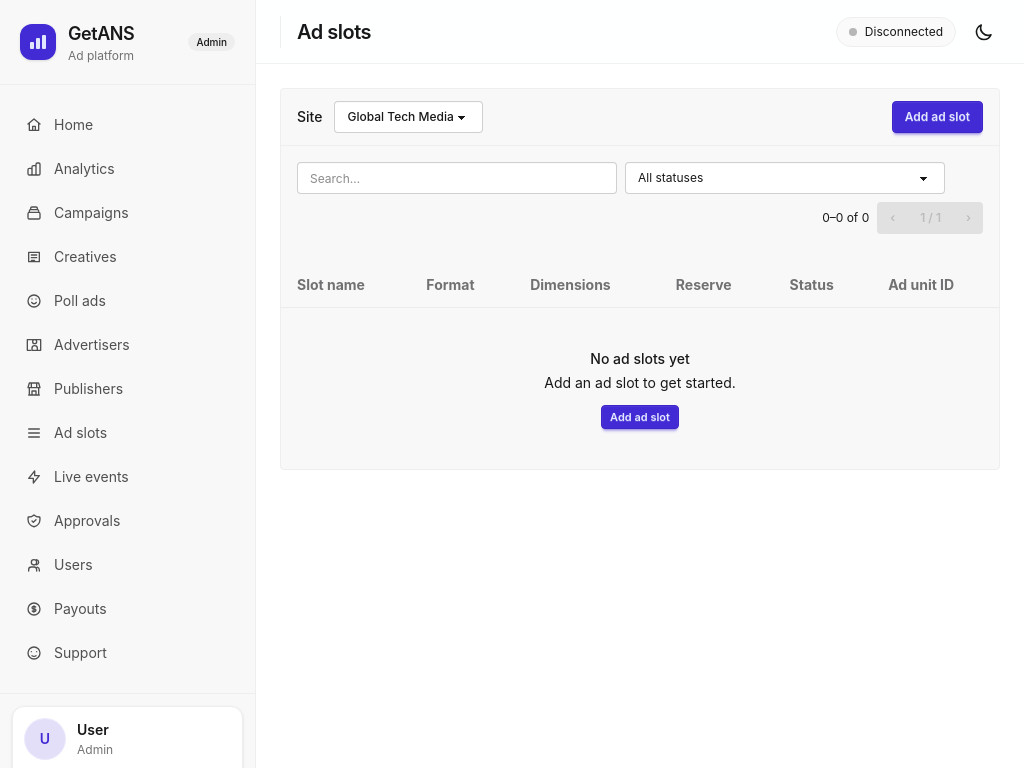
create ad slot modal › shows the API error
Select "Global Tech Media" in the dropdown named "Select site for ad slots" at (409, 117), box [334,101,483,133]
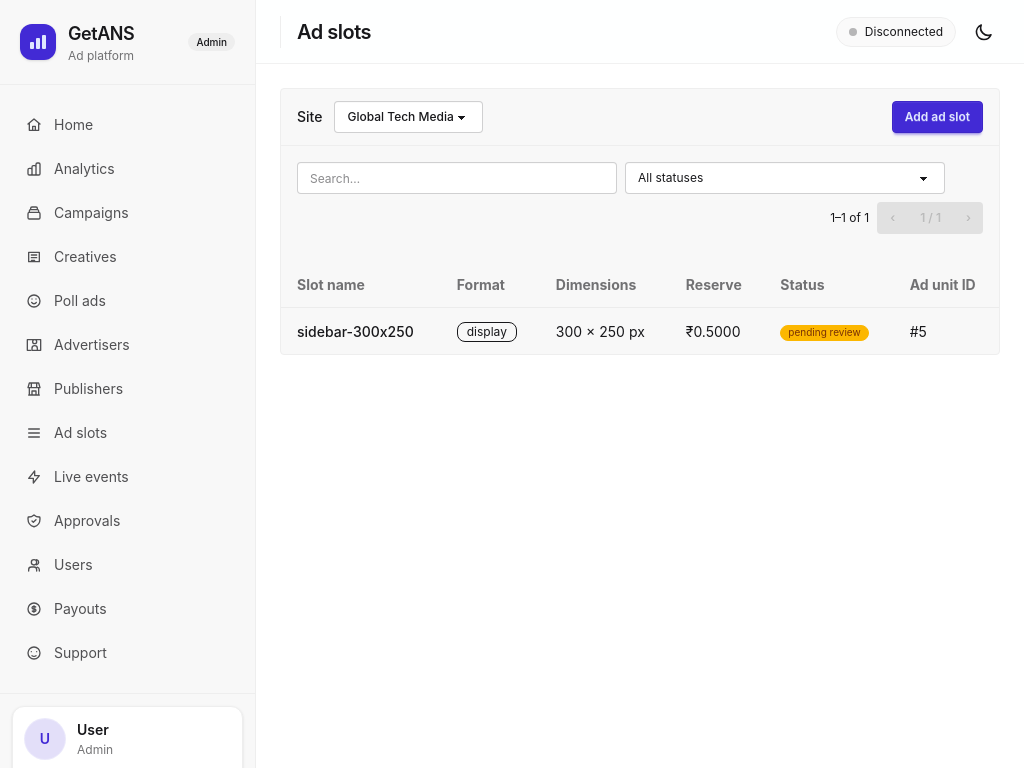
Click the button "Add ad slot" at (937, 117), box [892,101,983,133]
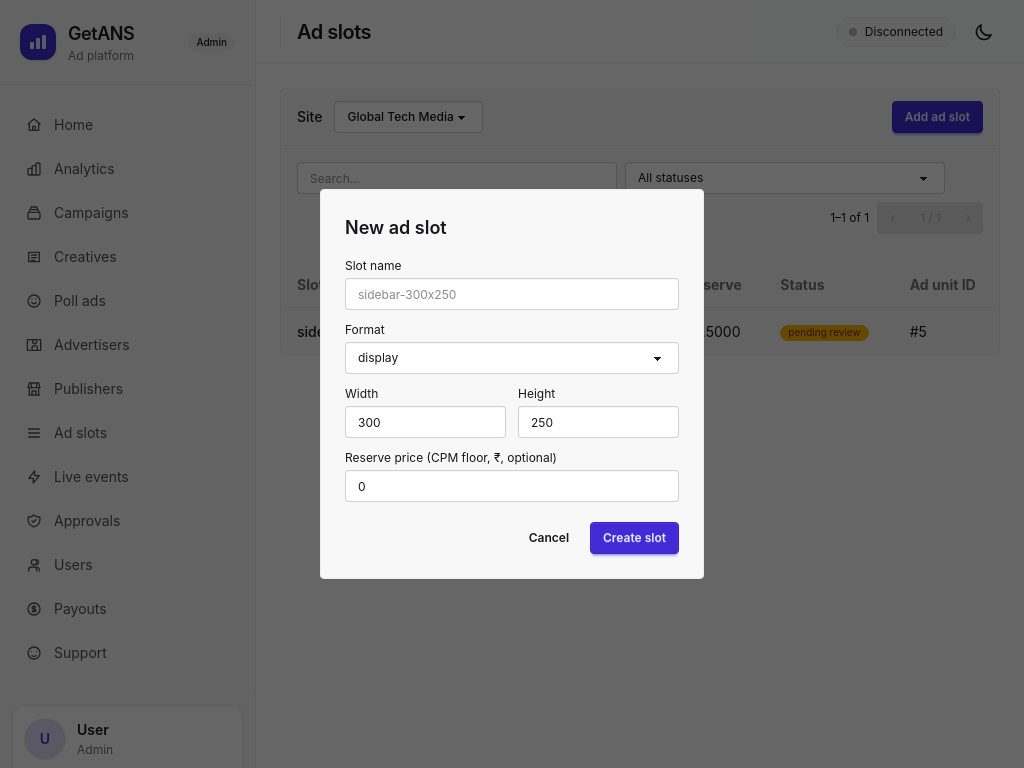
Type "x" into the field labelled "Slot name" at (512, 294), box [345,278,679,310]
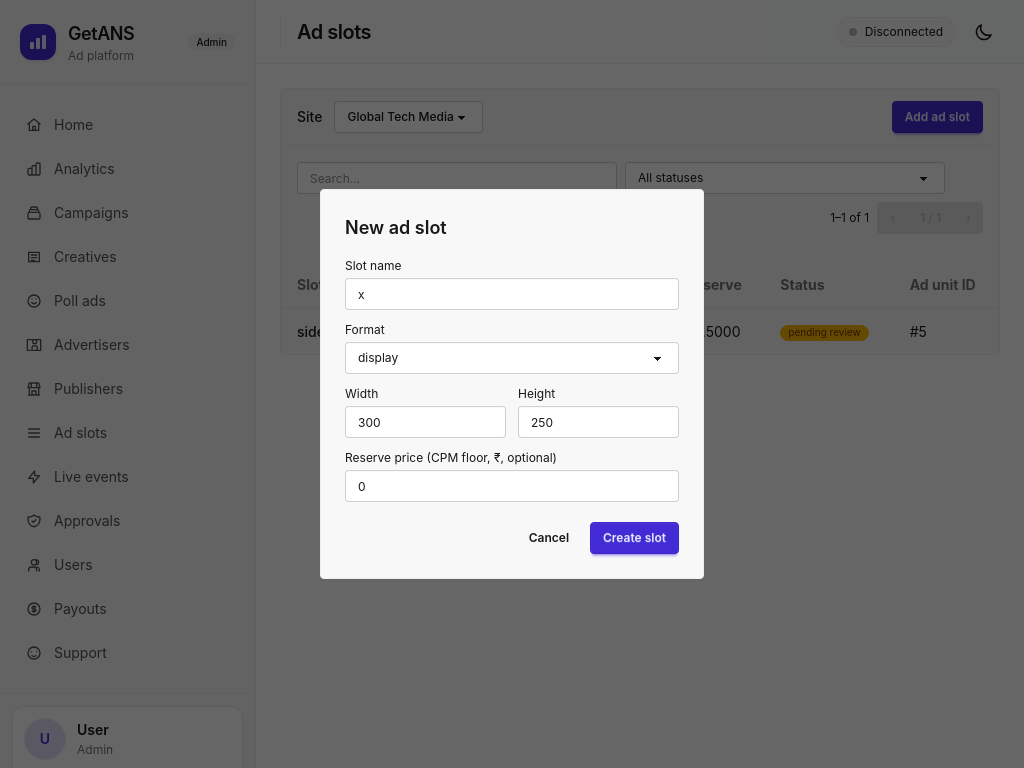
Submit the form named "Create slot", box [345,258,679,554]
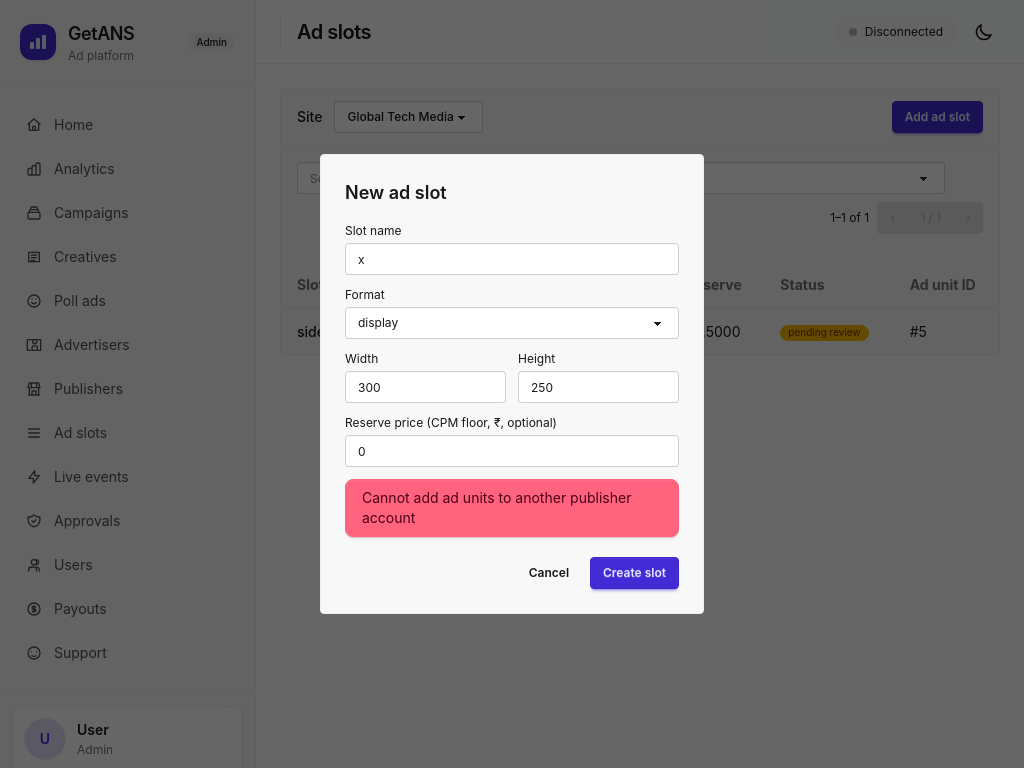
Now the message shows "another publisher", box [362,489,631,526]
